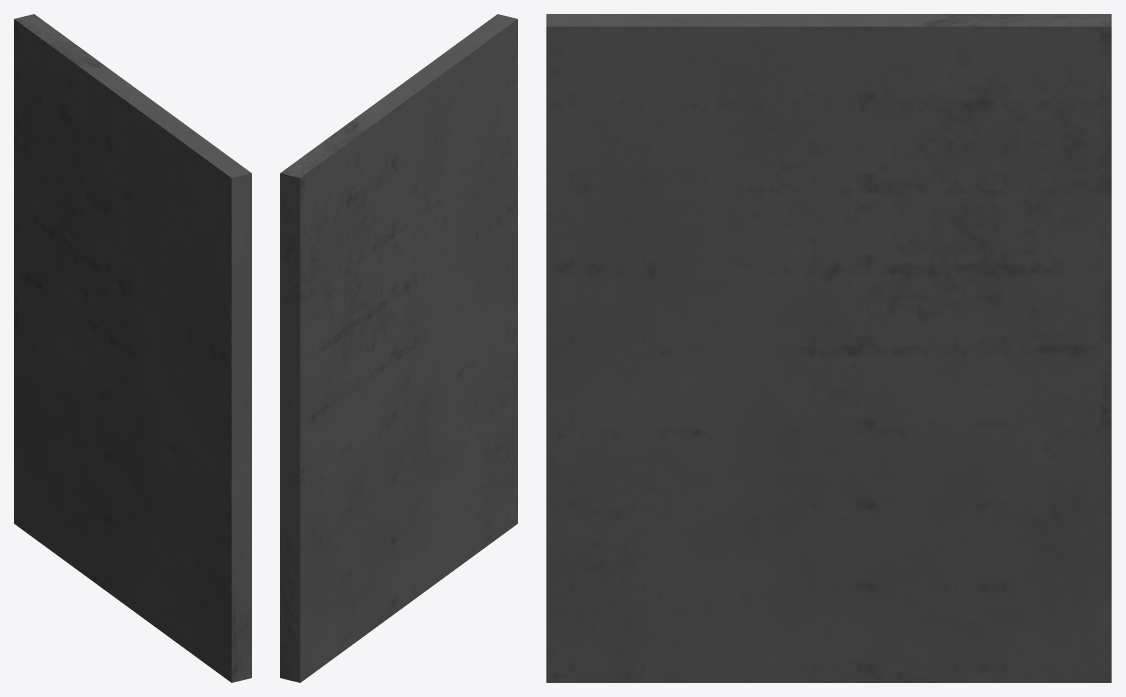
The model's file is IndustrialModularPiece1.fbx.
The picture shows the model from 3 angles, left to right: view 1: azimuth 30°, elevation 25°; view 2: azimuth 150°, elevation 25°; view 3: azimuth 270°, elevation 25°; orthographic projection. The views are drawn at different scales.
Visible parts, largest first — view 1: Engine_low.011; view 2: Engine_low.011; view 3: Engine_low.011.
Part boxes in pixels (box(x1,y1,x2,y2)): Engine_low.011: box(14, 14, 251, 682); Engine_low.011: box(280, 14, 517, 682); Engine_low.011: box(546, 14, 1111, 682).
Size of the model in its own units: 5.26 by 126 by 98.17.
